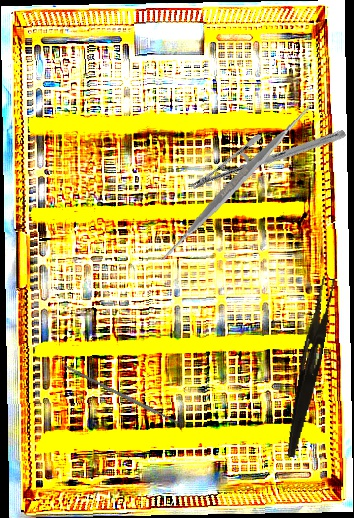Dressing Forceps: (284, 274, 336, 460)
Needle Holder: (189, 78, 348, 241)
Scalpel Handle: (61, 362, 180, 427)
Spatula Surgical: (148, 94, 327, 271)
